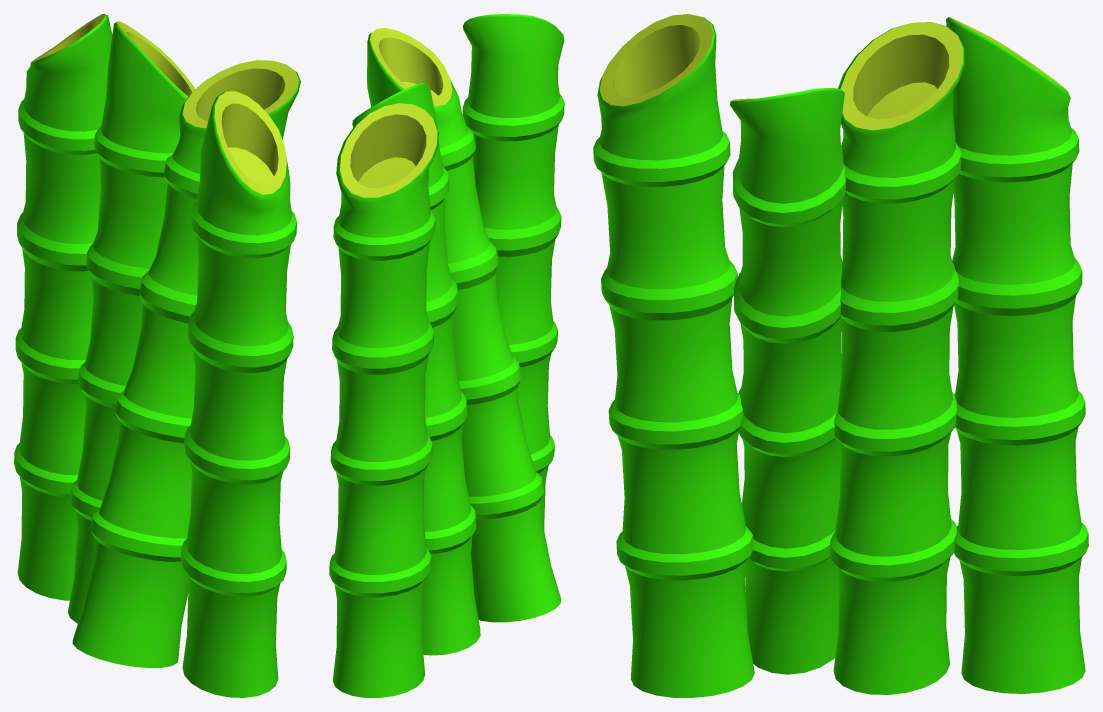
The model's file is bamboo_stack.fbx.
3 views of the same model, side by side, from view 1: azimuth 30°, elevation 25°; view 2: azimuth 150°, elevation 25°; view 3: azimuth 270°, elevation 25° (orthographic). The views are drawn at different scales.
Parts seen in each view (by area): view 1: pCylinder1.003, pCylinder1.002, pCylinder1, pCylinder1.001; view 2: pCylinder1, pCylinder1.002, pCylinder1.003, pCylinder1.001; view 3: pCylinder1.003, pCylinder1, pCylinder1.001, pCylinder1.002.
Part boxes in pixels (x1=…): pCylinder1.003: x1=181, y1=91, x2=296, y2=697; pCylinder1.002: x1=72, y1=60, x2=300, y2=667; pCylinder1: x1=14, y1=14, x2=112, y2=600; pCylinder1.001: x1=67, y1=21, x2=195, y2=623; pCylinder1: x1=329, y1=103, x2=438, y2=697; pCylinder1.002: x1=367, y1=28, x2=561, y2=622; pCylinder1.003: x1=462, y1=14, x2=564, y2=530; pCylinder1.001: x1=352, y1=82, x2=480, y2=655; pCylinder1.003: x1=593, y1=14, x2=754, y2=697; pCylinder1: x1=946, y1=17, x2=1088, y2=693; pCylinder1.001: x1=830, y1=22, x2=965, y2=694; pCylinder1.002: x1=729, y1=88, x2=845, y2=674.
Size of the model in its own units: 1220 by 3336 by 2260.
